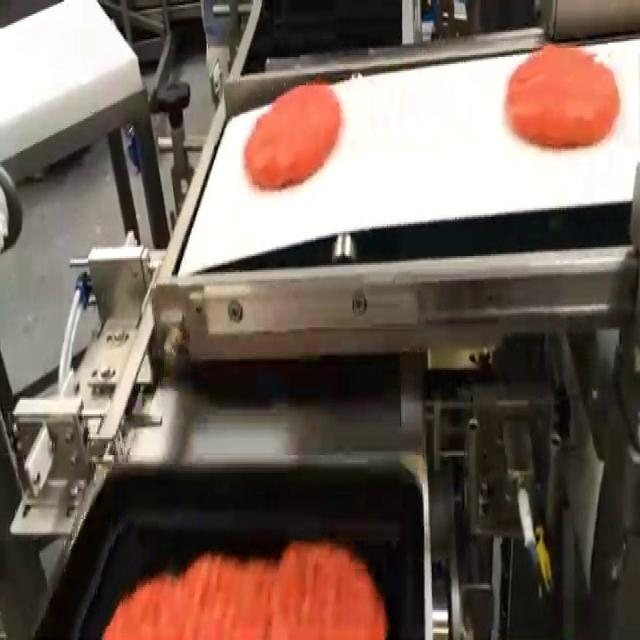4-hamburguer: (103, 540, 387, 638)
hamburguer: (505, 46, 620, 146), (244, 85, 341, 187)
